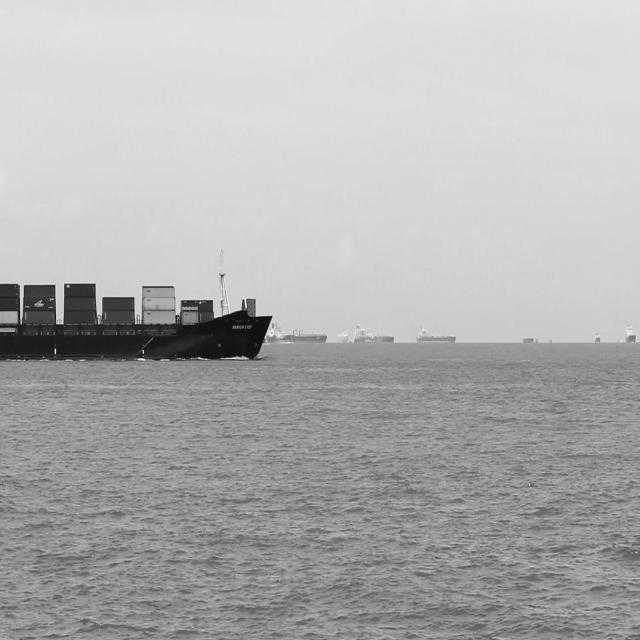ship: (0, 243, 278, 361), (356, 316, 398, 344), (415, 322, 462, 344), (284, 325, 331, 343), (256, 322, 286, 344), (622, 319, 640, 347), (522, 328, 542, 351), (336, 323, 353, 347), (593, 325, 607, 345)
